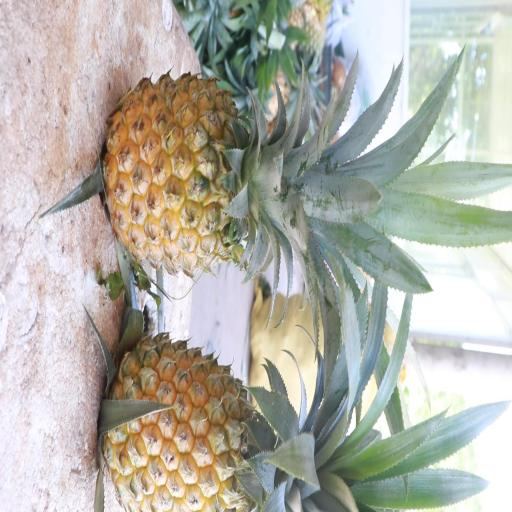Pineapple - v8 v1: (100, 68, 332, 283), (94, 329, 342, 512)
